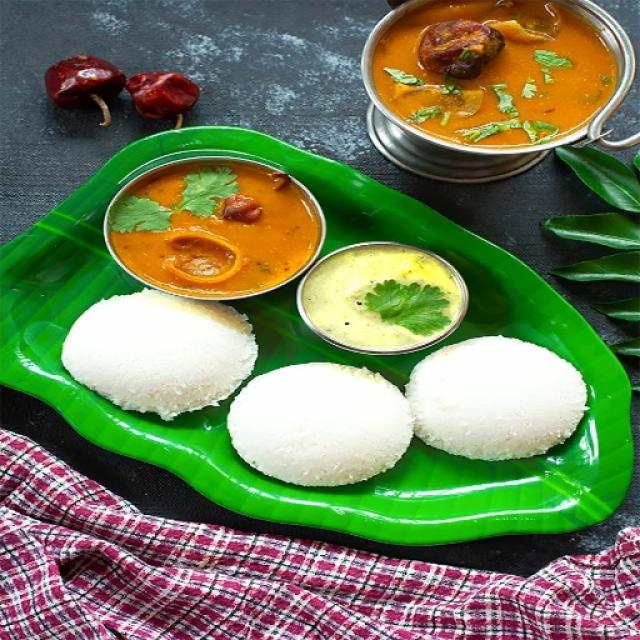IDLI: (228, 336, 586, 486), (61, 289, 258, 420)
SAMBAR: (361, 0, 635, 181), (106, 158, 322, 299)
WHITE CHUTNEY: (299, 244, 468, 350)
